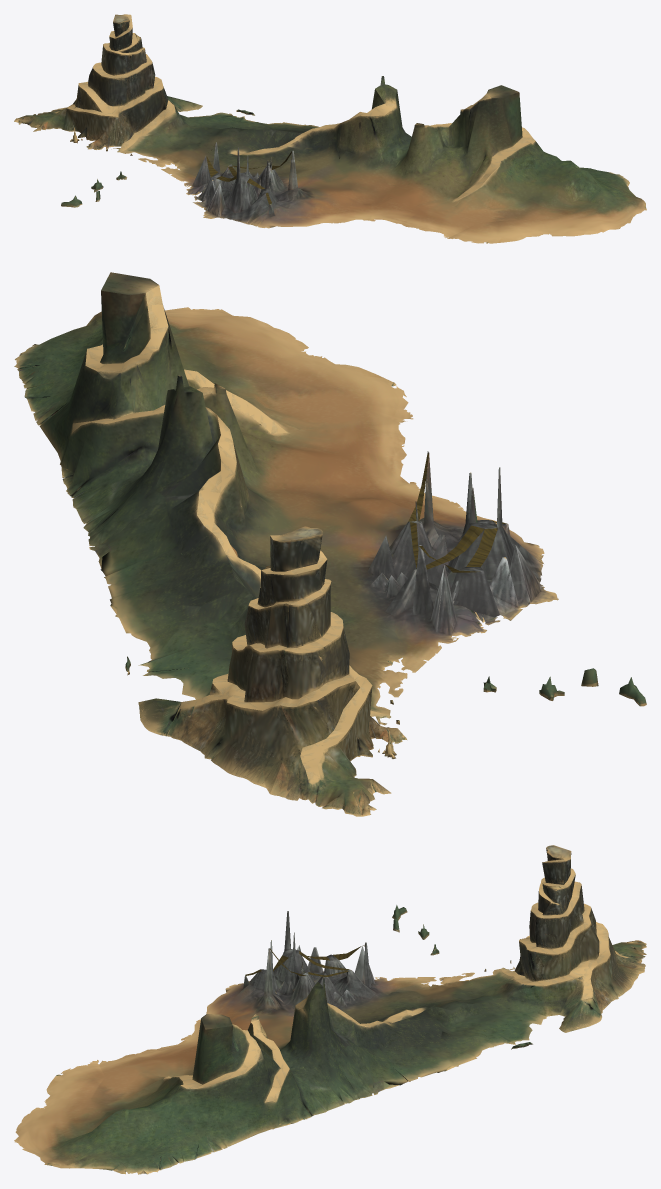
Rendered from lemursivTerrain_whole.glb.
The picture shows the model from 3 angles, top to bottom: view 1: azimuth 30°, elevation 25°; view 2: azimuth 150°, elevation 25°; view 3: azimuth 270°, elevation 25°; orthographic projection. The views are drawn at different scales.
Visible parts, largest first — view 1: southEast, northWest; view 2: southEast, northWest; view 3: southEast, northWest.
Boxes of the visible parts, x1,y1,x2,y2 form: southEast: [236, 76, 646, 243]; northWest: [14, 14, 380, 228]; southEast: [14, 272, 413, 675]; northWest: [138, 451, 646, 816]; southEast: [14, 977, 532, 1174]; northWest: [181, 845, 646, 1042].
Size of what is drawn, in the model's own units: 121 by 28.61 by 122.
Materials: 1 (1 with a texture image).
